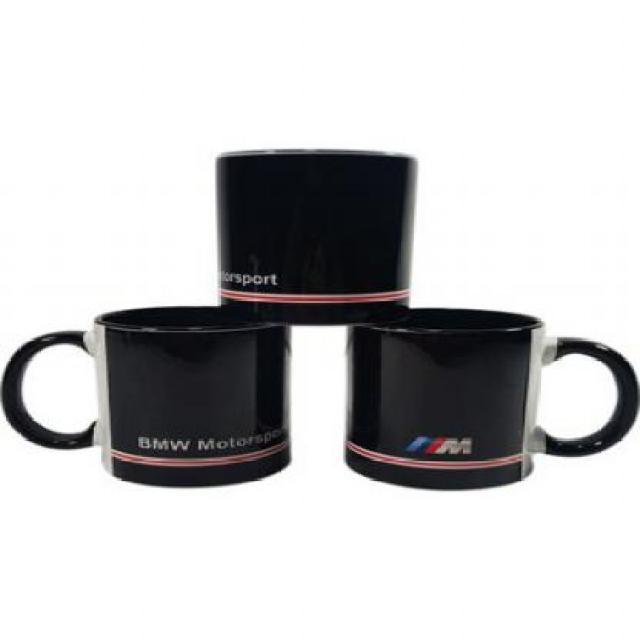taza: (0, 305, 309, 485), (342, 307, 640, 490), (216, 138, 422, 326)
